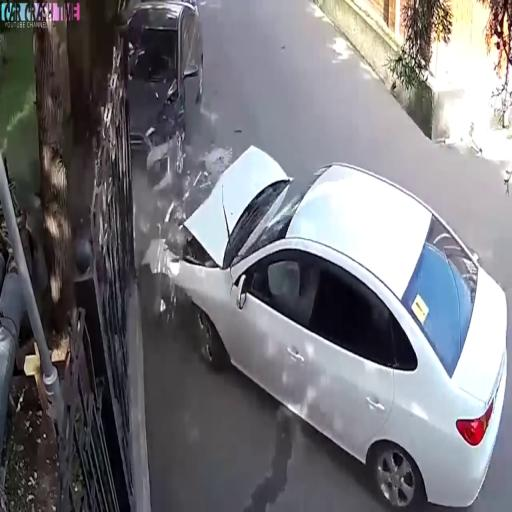小汽车: (195, 147, 506, 504), (128, 4, 206, 156)
